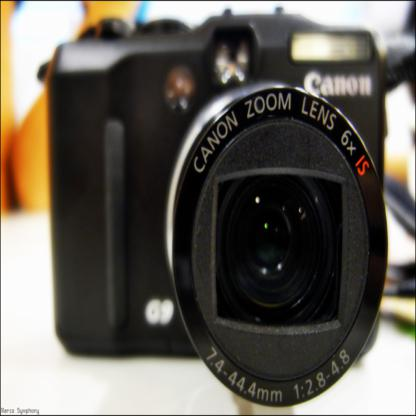Camera: (46, 7, 390, 408)
